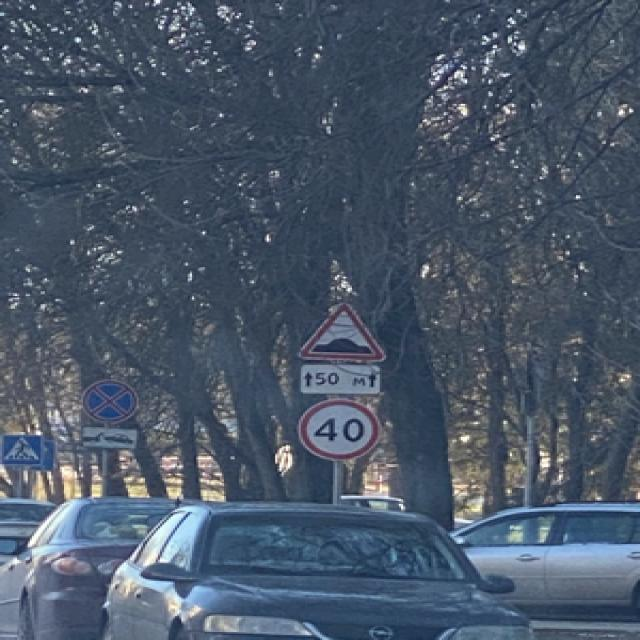crosswalk: (0, 432, 41, 466)
speedlimit: (294, 398, 376, 458)
